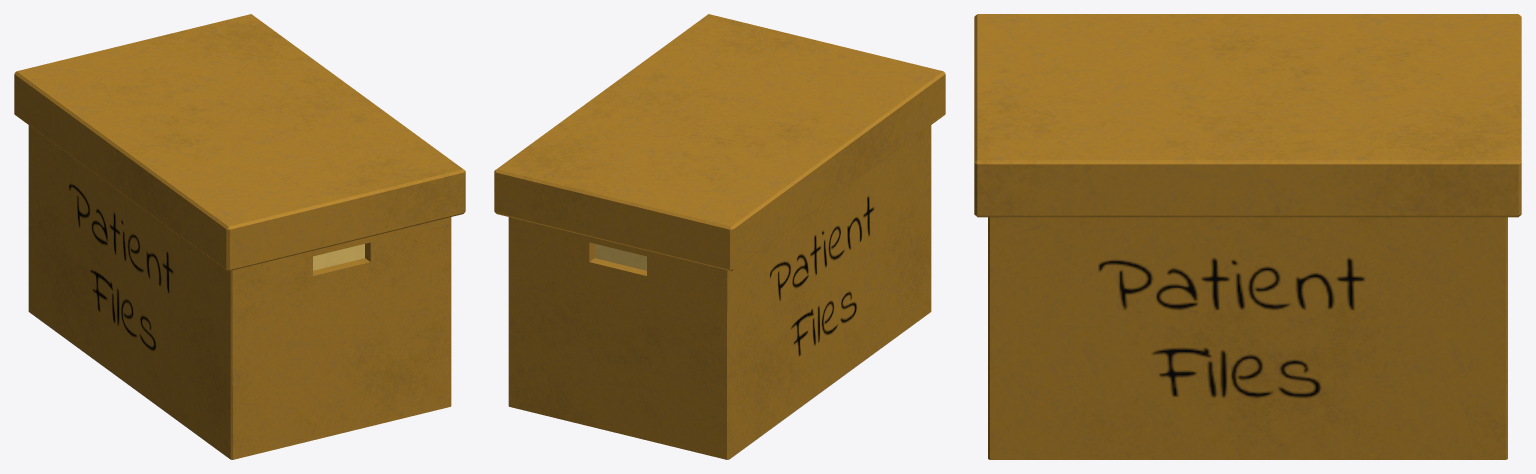
The model's file is filing_box.glb.
3 views of the same model, side by side, from view 1: azimuth 30°, elevation 25°; view 2: azimuth 150°, elevation 25°; view 3: azimuth 270°, elevation 25° (orthographic). The views are drawn at different scales.
Parts seen in each view (by area): view 1: Object_2; view 2: Object_2; view 3: Object_2.
Boxes of the visible parts, box(x1,y1,x2,y2) form: Object_2: box(14, 14, 465, 459); Object_2: box(494, 14, 945, 459); Object_2: box(974, 14, 1521, 459).
Size of the model in its own units: 54.18 by 51.63 by 84.21.
1 material, 1 textured.
